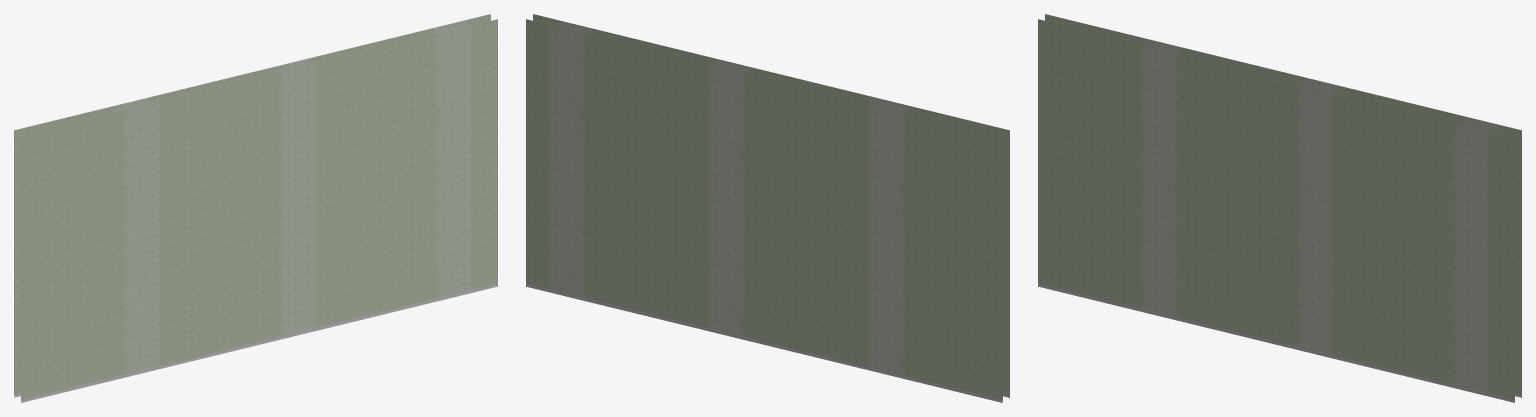
3 renders of one model, left to right at view 1: azimuth 30°, elevation 25°; view 2: azimuth 150°, elevation 25°; view 3: azimuth 330°, elevation 25°, orthographic.
Parts seen in each view (by area): view 1: Mesh (63); view 2: Mesh (63); view 3: Mesh (63).
Part boxes in pixels (left/top/right/bottom): Mesh (63): left=14, top=14, right=497, bottom=402; Mesh (63): left=526, top=14, right=1009, bottom=402; Mesh (63): left=1038, top=14, right=1521, bottom=402.
Bounding box in the file's own units: 649 × 348 × 16.52.
